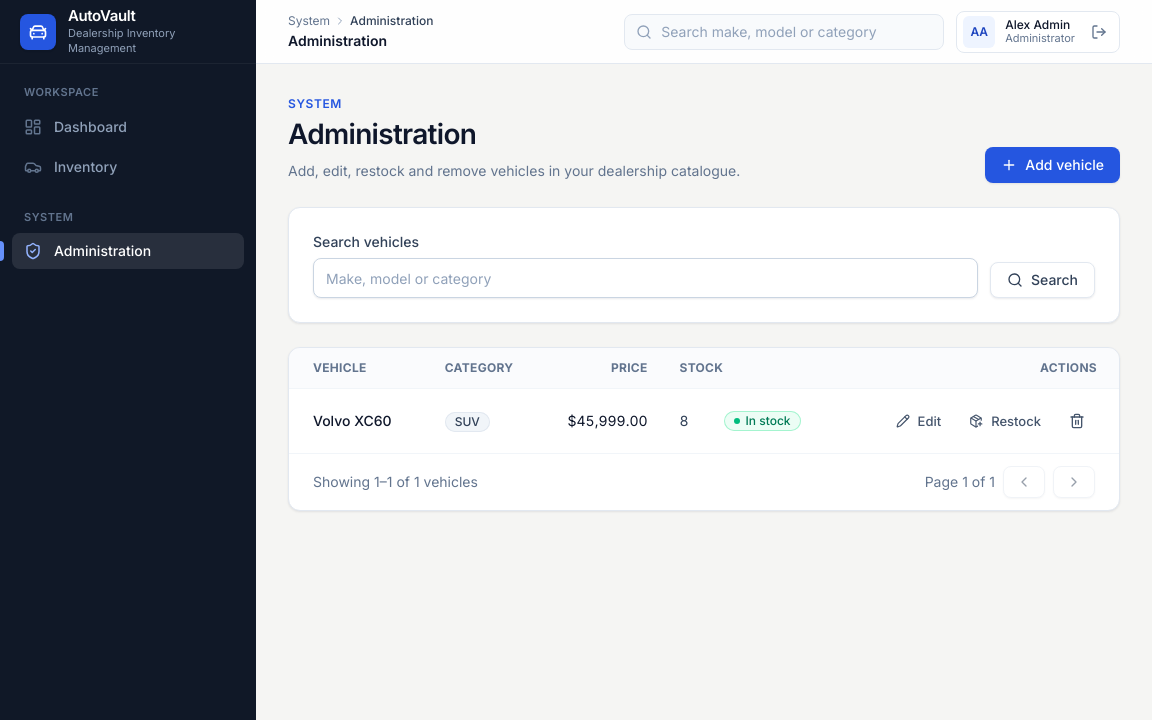
Test: administration › restocks a vehicle with a positive quantity
Step 1. Click the button with aria-label "Restock Volvo XC60" → (1005, 421), box top-left (957, 405), bottom-right (1053, 437)
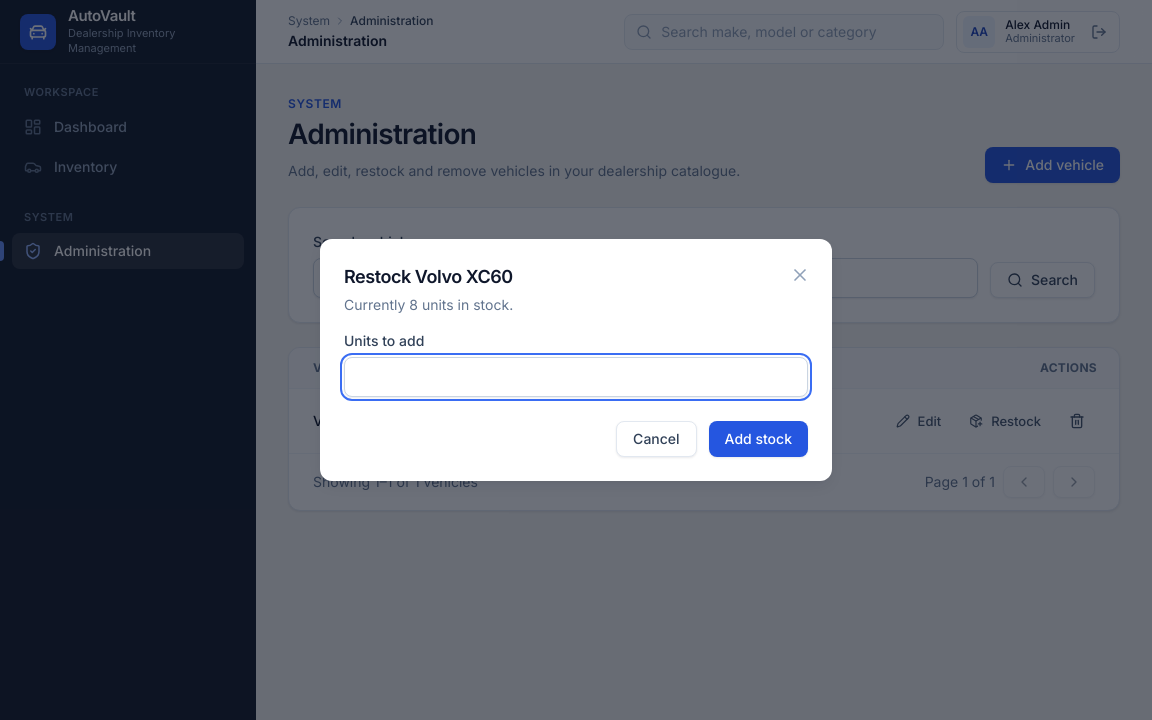
Step 2. Type "0" into the field labelled "Units to add" → (576, 377), box top-left (344, 357), bottom-right (808, 397)
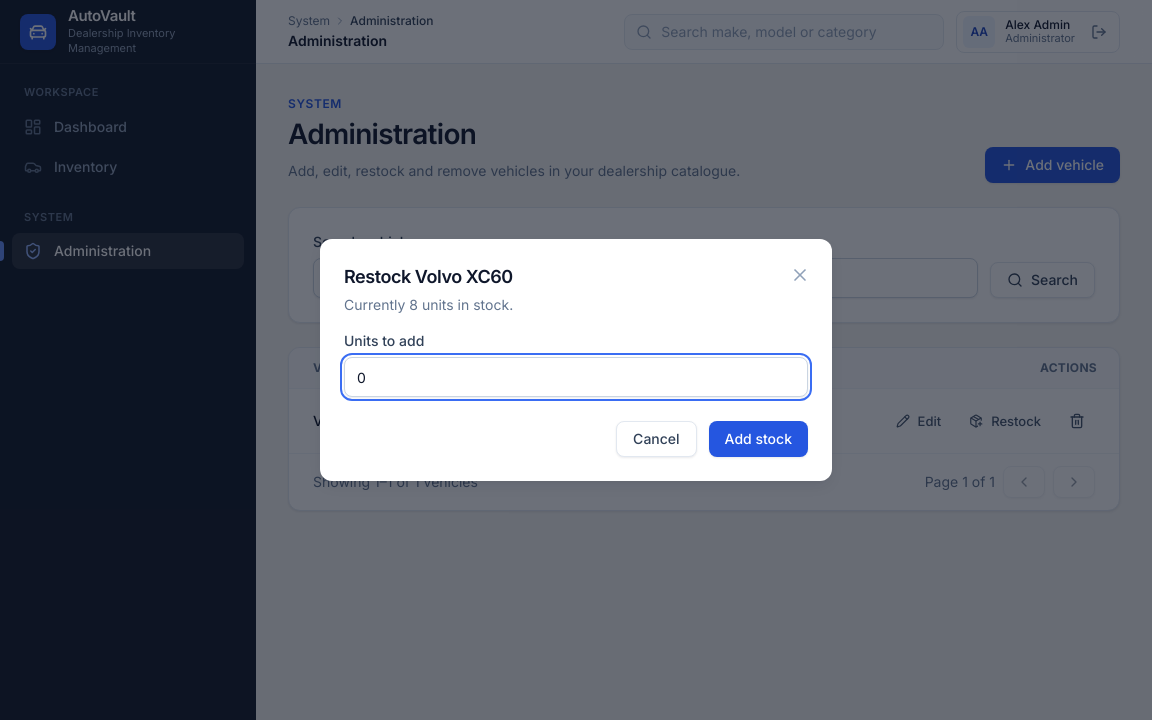
Step 3. Click the button "Add stock" → (758, 439), box top-left (709, 421), bottom-right (808, 457)
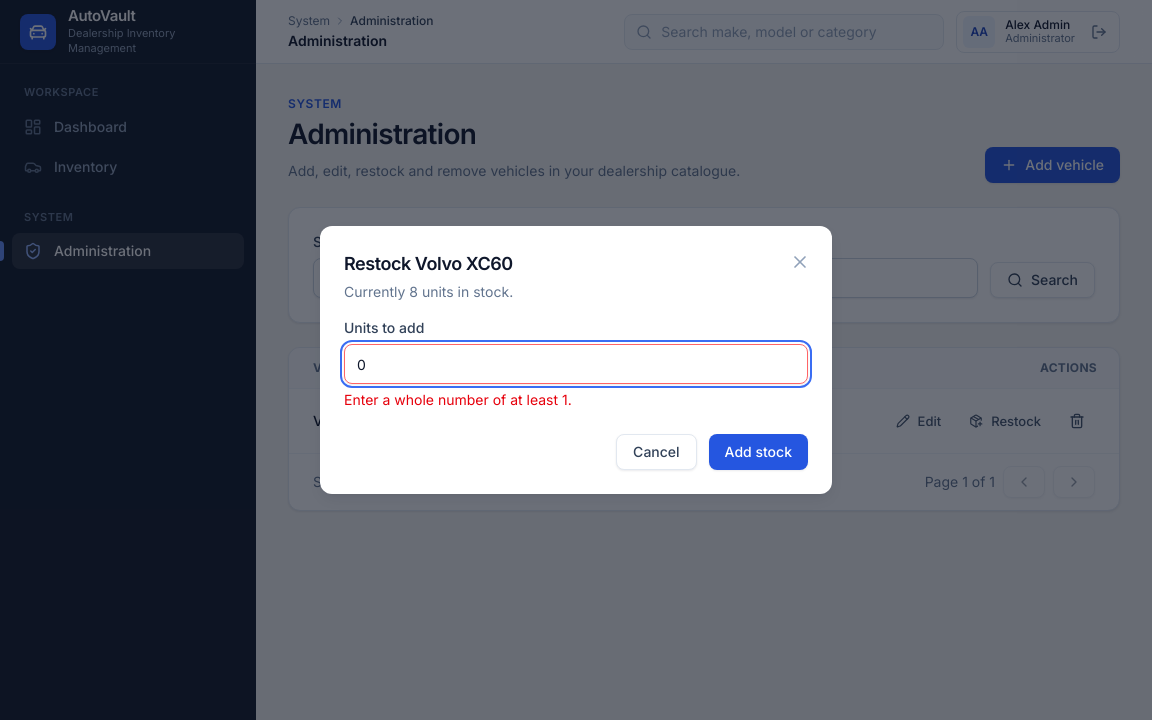
Check: the text "Enter a whole number of at least 1." is shown, box top-left (344, 391), bottom-right (572, 408)
Step 4. Replace the text in the field labelled "Units to add" with "5" → (576, 364), box top-left (344, 344), bottom-right (808, 384)
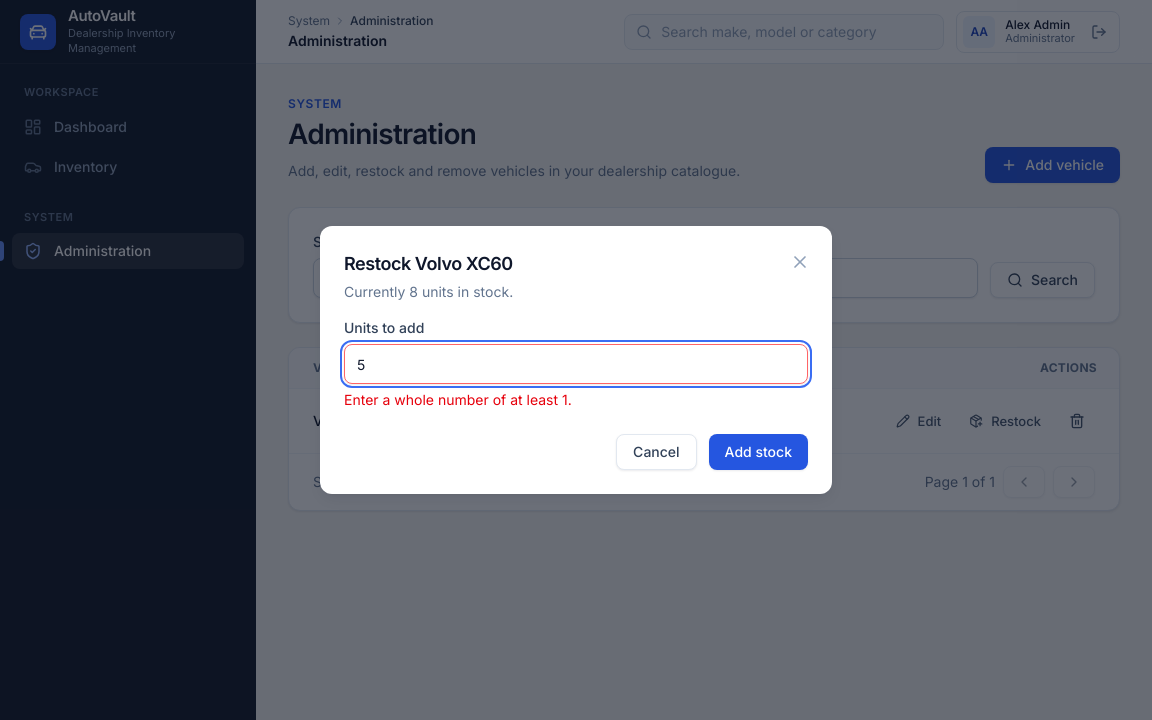
Step 5. Click the button "Add stock" → (758, 452), box top-left (709, 434), bottom-right (808, 470)
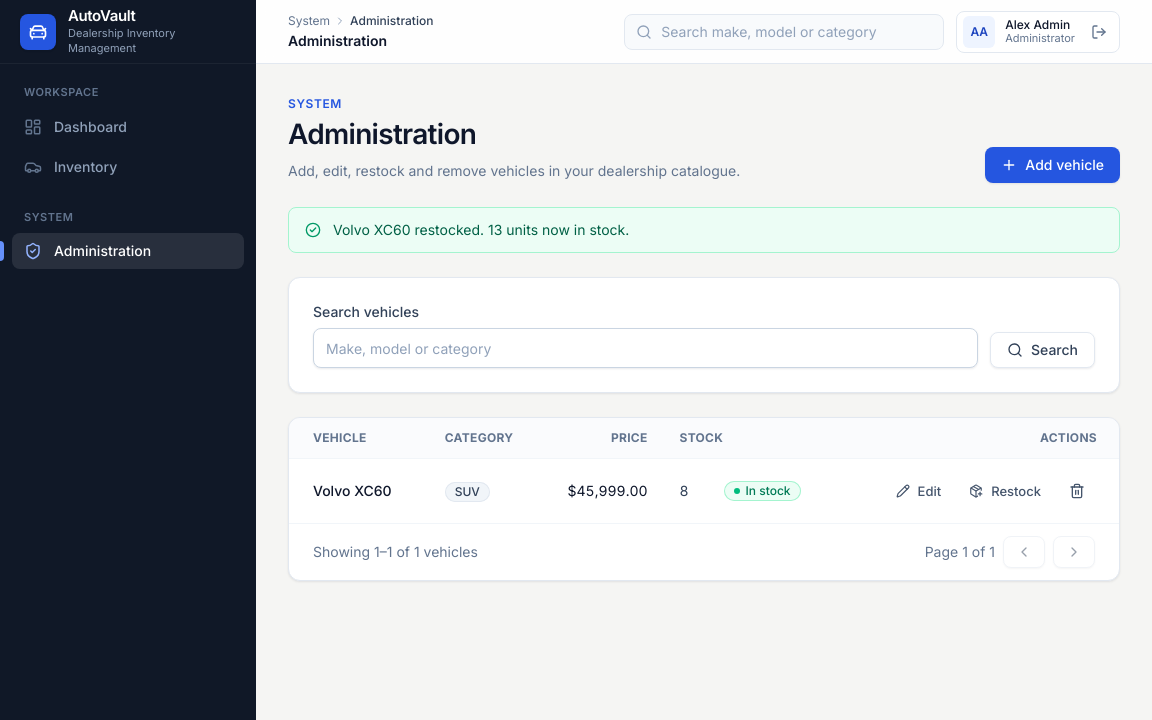
Check: the text "Volvo XC60 restocked. 13 units now in stock." is shown, box top-left (333, 220), bottom-right (629, 240)
